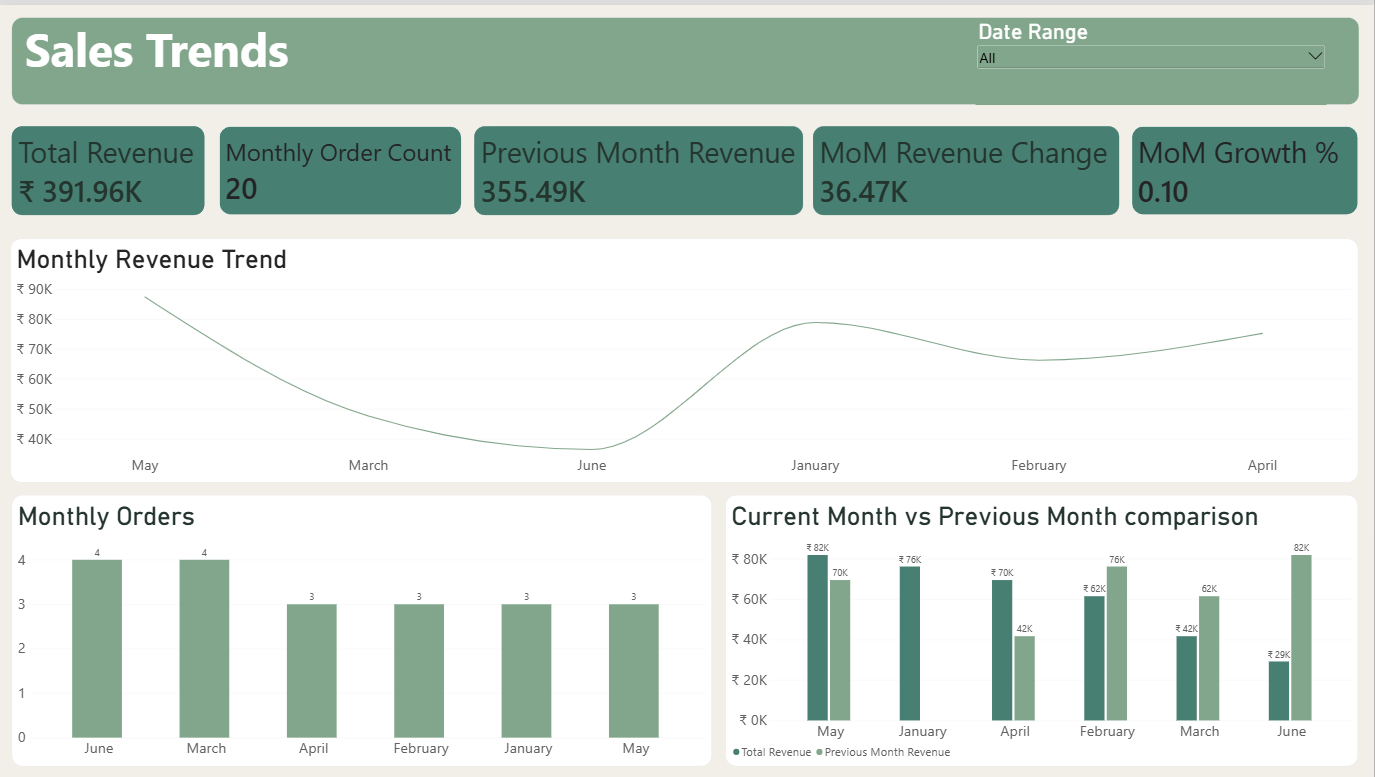

This screenshot's page, from the dashboard's own definition file:
{"tool":"powerbi","page":{"name":"Sales Trends","canvas":[3840,2160],"ordinal":3},"visuals":[{"type":"cardVisual","fields":{"Data":["public order_items.Total Revenue"]},"box":[38.4,338.4,537.2,247.7],"z":0},{"type":"textbox","box":[36.7,33.3,3760,243.3],"z":1000},{"type":"cardVisual","title":"Total Customers","fields":{"Data":["public orders.Previous Month Revenue"]},"box":[1329.1,338.4,917.4,247.7],"z":2000},{"type":"cardVisual","fields":{"Data":["public order_items.MoM Revenue Change"]},"box":[2274.4,338.4,854.7,247.7],"z":3000},{"type":"lineChart","title":"Monthly Revenue Trend ","fields":{"Category":["DateTable.Month"],"Y":["public order_items.Total Revenue"]},"box":[34.9,652.3,3760.5,680.2],"z":4000},{"type":"clusteredColumnChart","title":"Monthly Orders ","fields":{"Category":["DateTable.Month"],"Y":["public orders.Total Orders"]},"box":[38.4,1367.4,1953.5,757],"z":6000},{"type":"clusteredColumnChart","title":"Current Month vs Previous Month comparison","fields":{"Category":["DateTable.Month"],"Y":["public order_items.Total Revenue","public orders.Previous Month Revenue"]},"box":[2030.2,1367.4,1765.1,757],"z":7000},{"type":"slicer","fields":{"Values":["DateTable.Month"]},"box":[2727.9,38.4,980.2,240.7],"z":8000},{"type":"cardVisual","fields":{"Data":["public order_items.MoM Growth %"]},"box":[3164,338.4,631.4,247.7],"z":10000},{"type":"cardVisual","fields":{"Data":["public order_items.Monthly Order Count"]},"box":[617.4,338.4,676.7,247.7],"z":10001}]}

Visuals, with their boxes in screenshot pixels (x1, y1, x2, y2), scaled from the page's 3840x2160 canvas onto the 1375x777 screenshot:
cardVisual - public order_items.Total Revenue: 14 122 206 211
textbox: 13 12 1359 99
"Total Customers" cardVisual: 476 122 804 211
cardVisual - public order_items.MoM Revenue Change: 814 122 1120 211
"Monthly Revenue Trend " lineChart: 12 235 1359 479
"Monthly Orders " clusteredColumnChart: 14 492 713 764
"Current Month vs Previous Month comparison" clusteredColumnChart: 727 492 1359 764
slicer - DateTable.Month: 977 14 1328 100
cardVisual - public order_items.MoM Growth %: 1133 122 1359 211
cardVisual - public order_items.Monthly Order Count: 221 122 463 211
